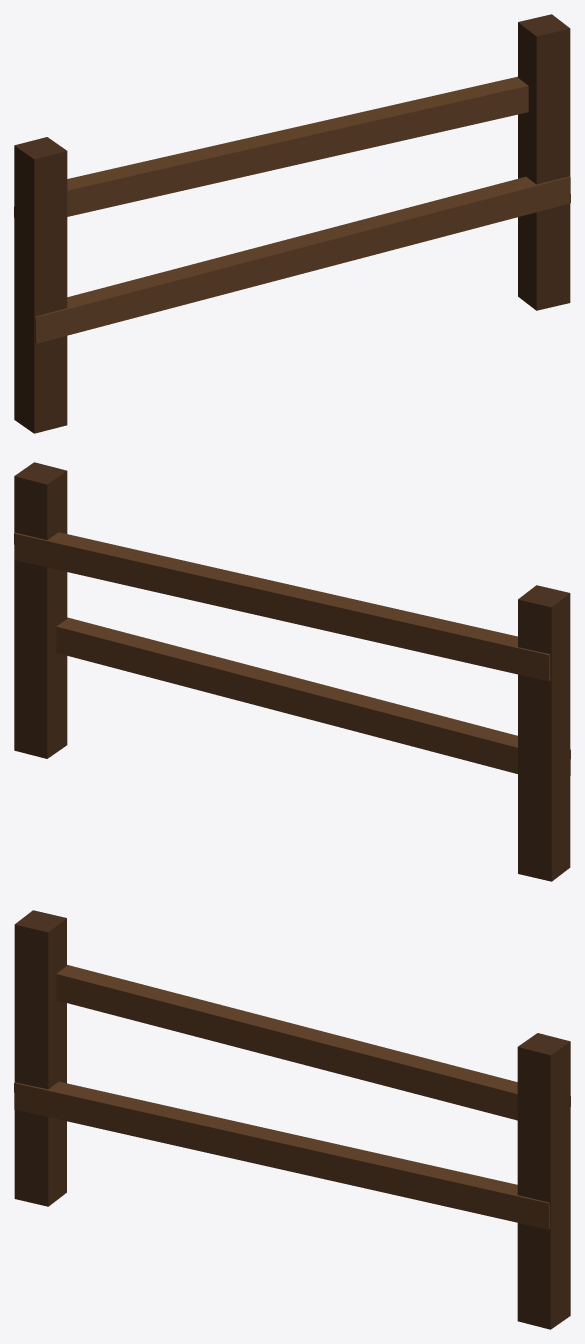
File: fence_wood_split.glb
3 views of the same model, one above another, from view 1: azimuth 30°, elevation 25°; view 2: azimuth 150°, elevation 25°; view 3: azimuth 330°, elevation 25° (orthographic).
Visible parts, largest first — view 1: SplitRailFence; view 2: SplitRailFence; view 3: SplitRailFence.
Boxes of the visible parts, x1,y1,x2,y2 form: SplitRailFence: (14,14,570,433); SplitRailFence: (14,462,570,881); SplitRailFence: (14,910,570,1329).
Bounding box in the file's own units: 2.56 × 1.25 × 0.18.
